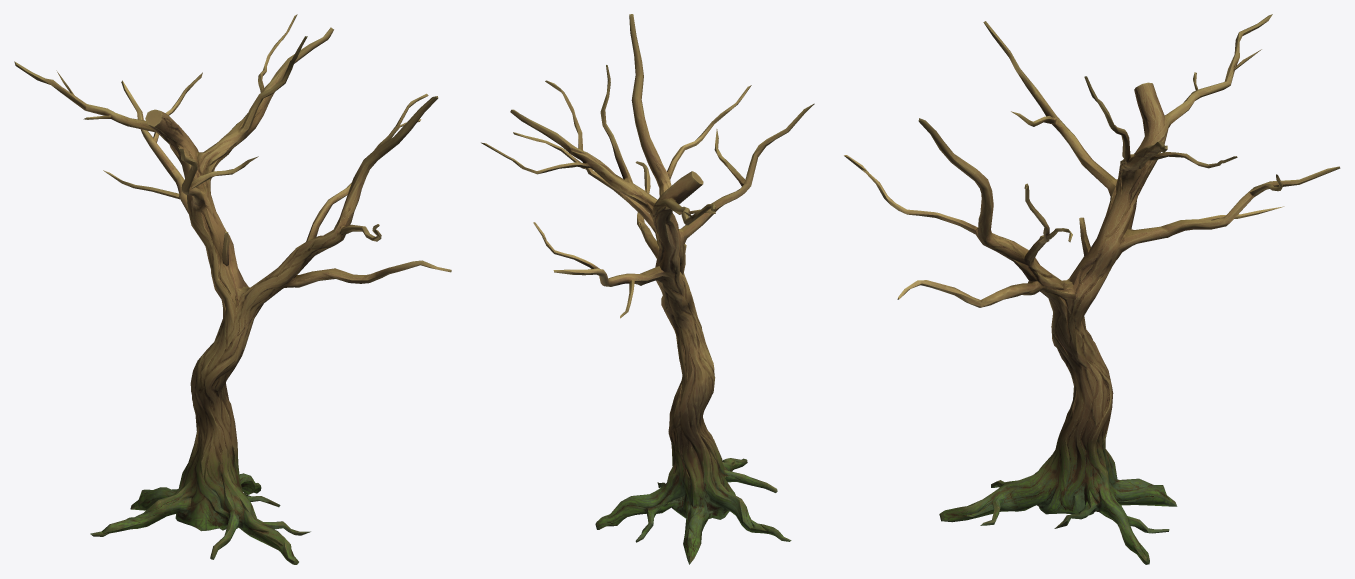
Rendered from TraditionalKoreanHouse_TreeC03.fbx.
The picture shows the model from 3 angles, left to right: view 1: azimuth 30°, elevation 25°; view 2: azimuth 150°, elevation 25°; view 3: azimuth 270°, elevation 25°; orthographic projection. The views are drawn at different scales.
Parts seen in each view (by area): view 1: TraditionalKoreanHouse_TreeC03; view 2: TraditionalKoreanHouse_TreeC03; view 3: TraditionalKoreanHouse_TreeC03.
Boxes of the visible parts, bbox=[...] form: TraditionalKoreanHouse_TreeC03: bbox=[14, 14, 451, 564]; TraditionalKoreanHouse_TreeC03: bbox=[481, 14, 814, 564]; TraditionalKoreanHouse_TreeC03: bbox=[844, 14, 1340, 564].
Size of the model in its own units: 448 by 643 by 580.
